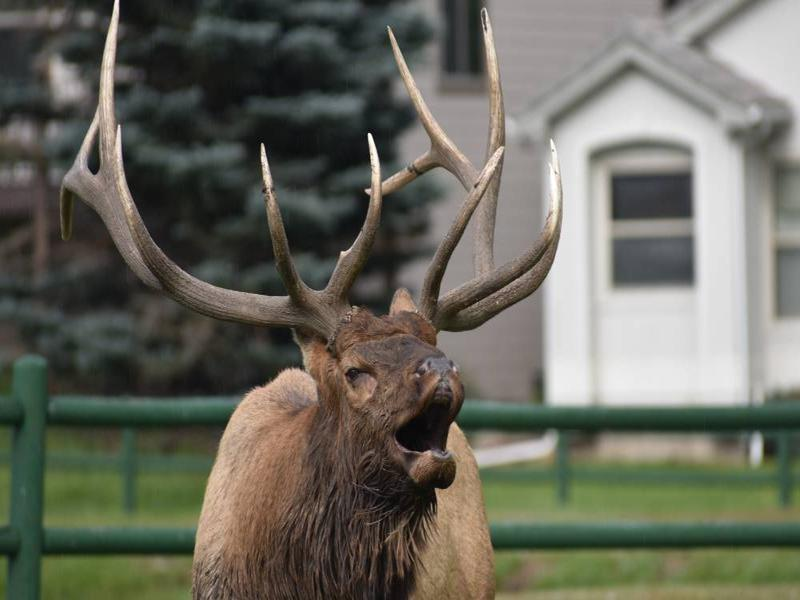elk: (73, 24, 573, 600)
